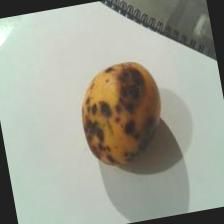Mango Rotten: (72, 49, 170, 173)
